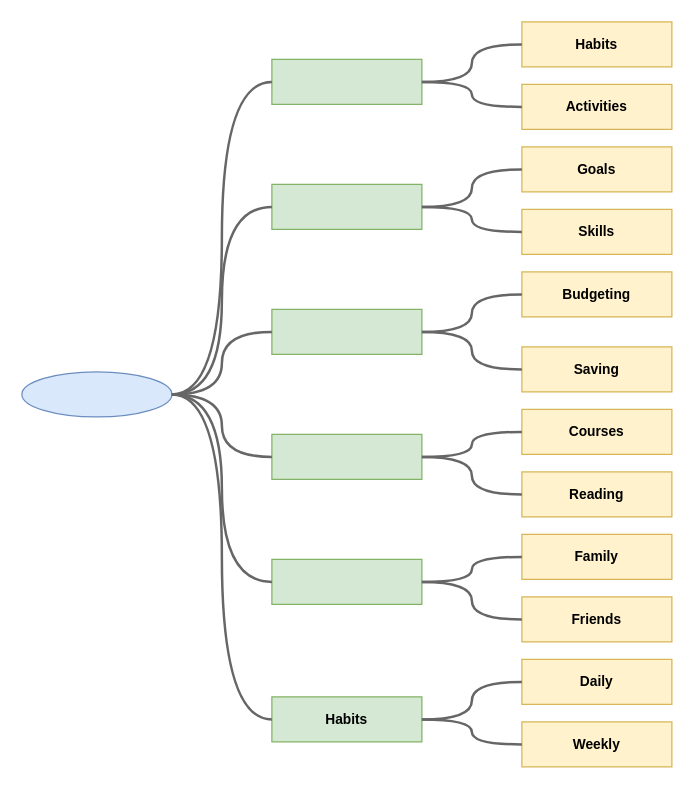
This 694x789 diagram has some shape labels left out. Here are the shapes that lost their labels. From the top down, the centre of each, then its label:
At (x=346, y=81): "Health".
At (x=346, y=206): "Career".
At (x=346, y=331): "Finance".
At (x=96, y=394): "Personal Goals".
At (x=346, y=456): "Learning".
At (x=346, y=581): "Relationships".
